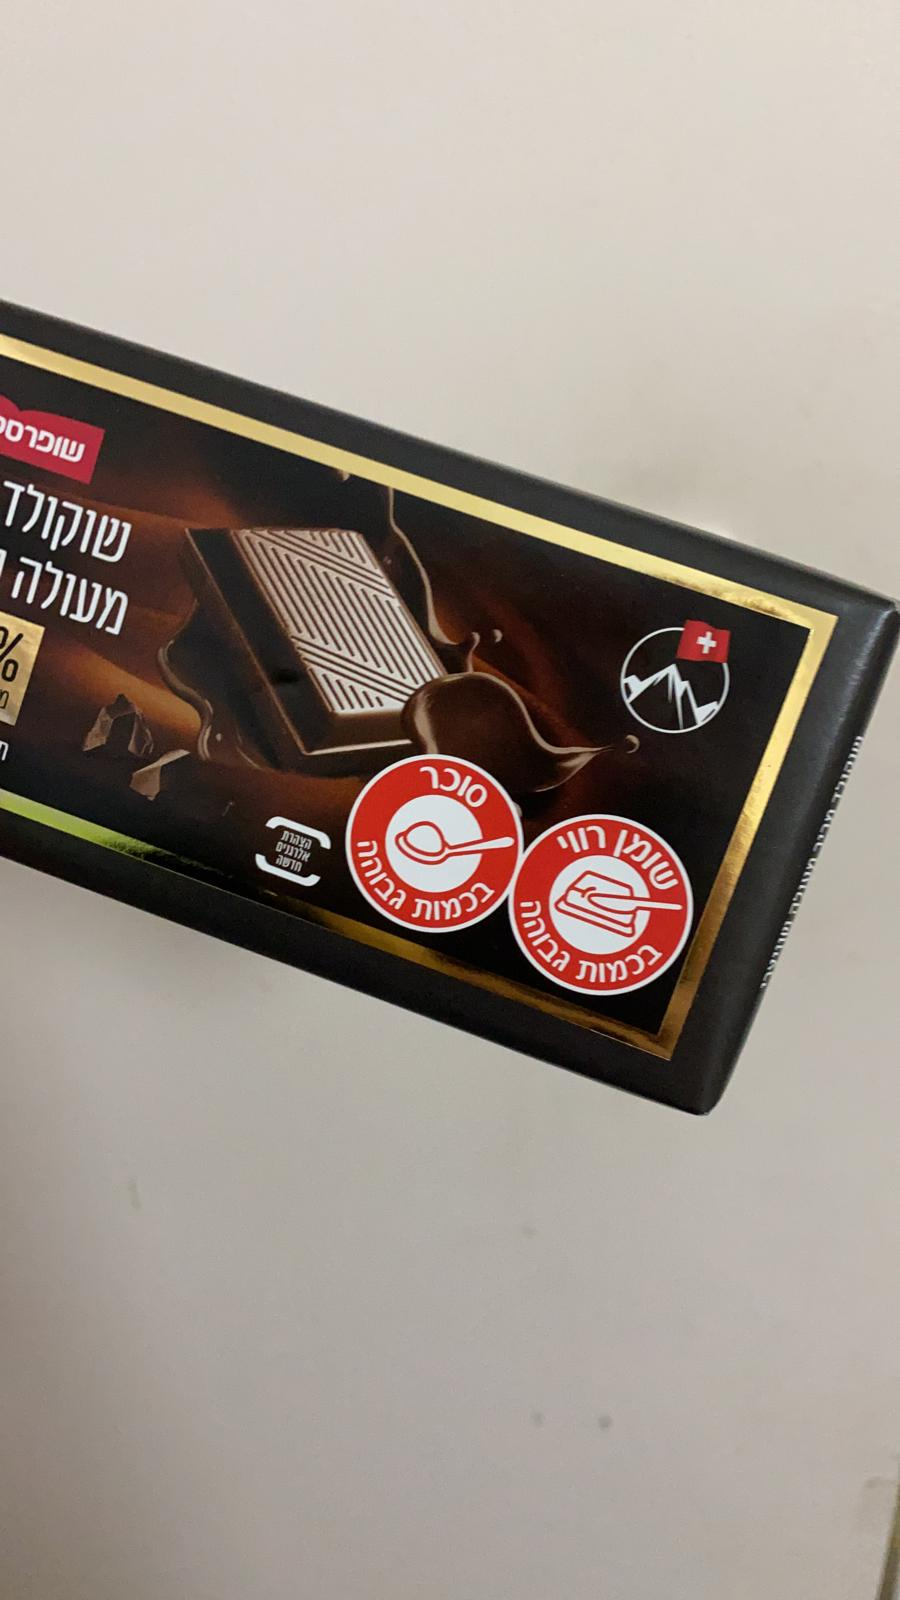fat: (507, 810, 696, 995)
sugar: (342, 751, 524, 938)
